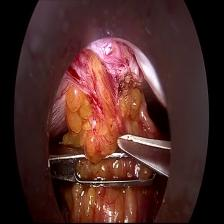Grasper: (49, 152, 158, 186)
Scissors: (116, 133, 171, 180)
